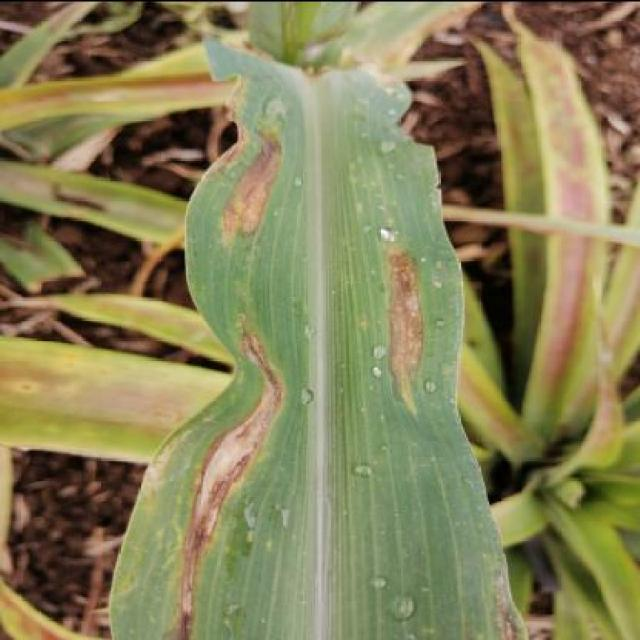Corn_Leaf_Blight: (111, 35, 514, 640)
